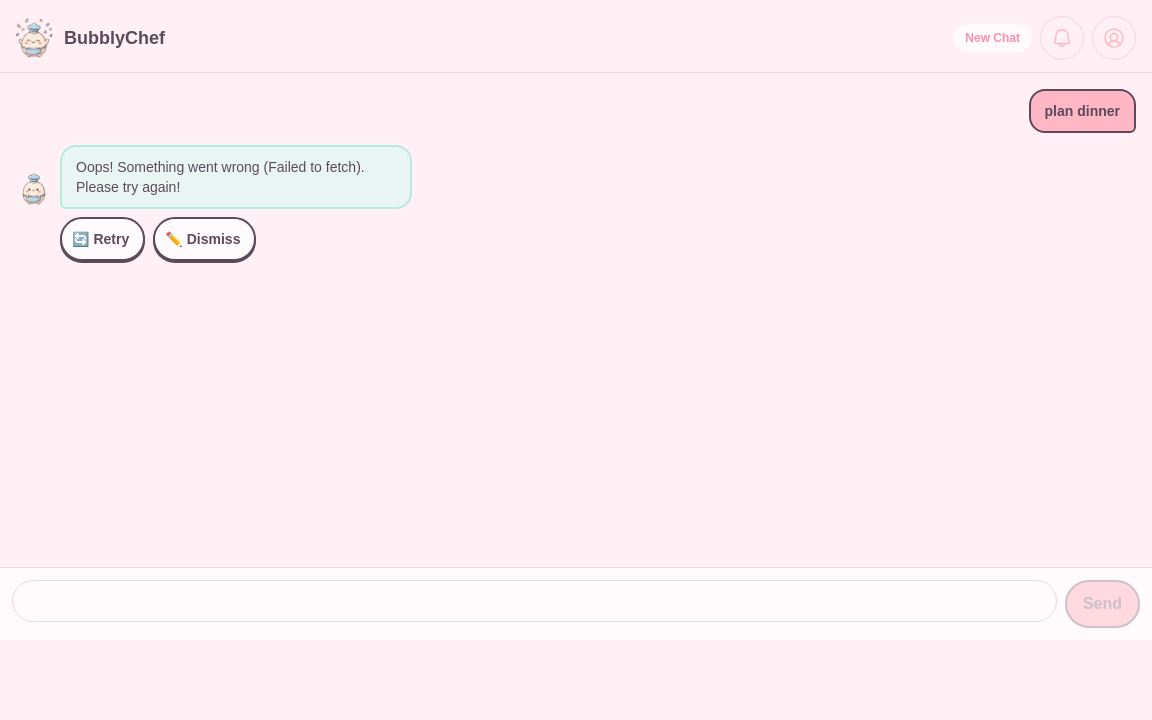
Test: failed send (#847) › Dismiss puts the unsent text back in the input
Step 1. Click the button "✏️ Dismiss" → {"x": 205, "y": 239}, box [153,217,256,261]
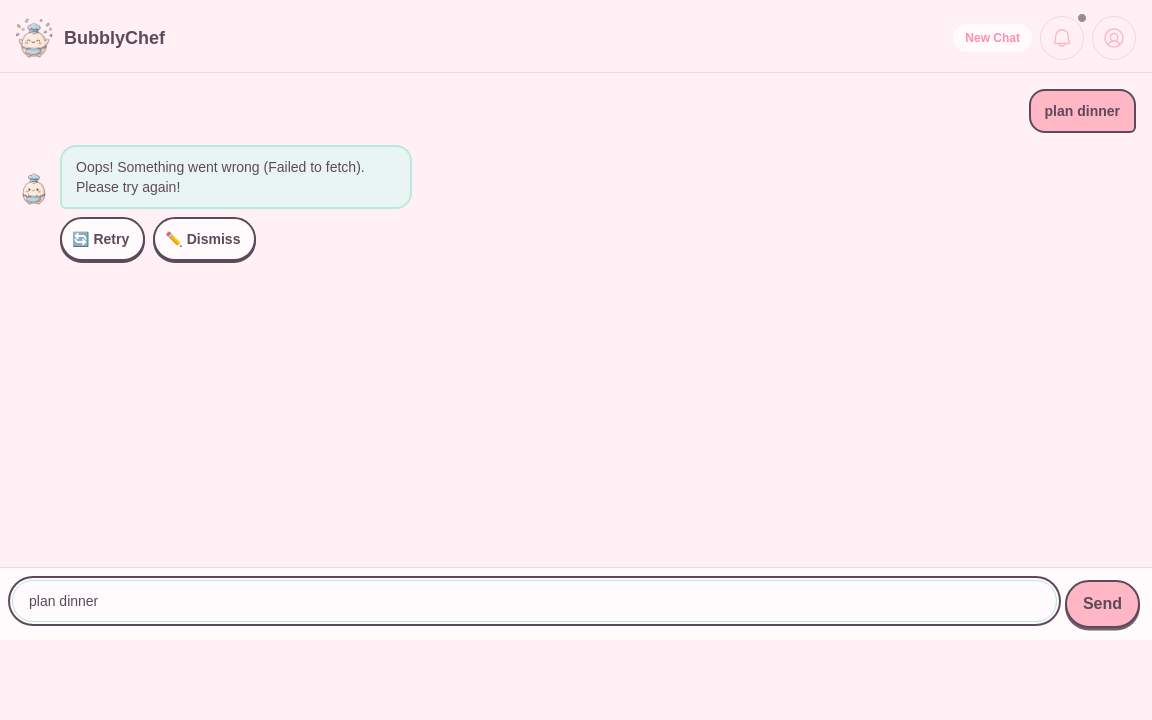
Check: the field named "Message Bubbly" holds "plan dinner", box [12,580,1057,622]
